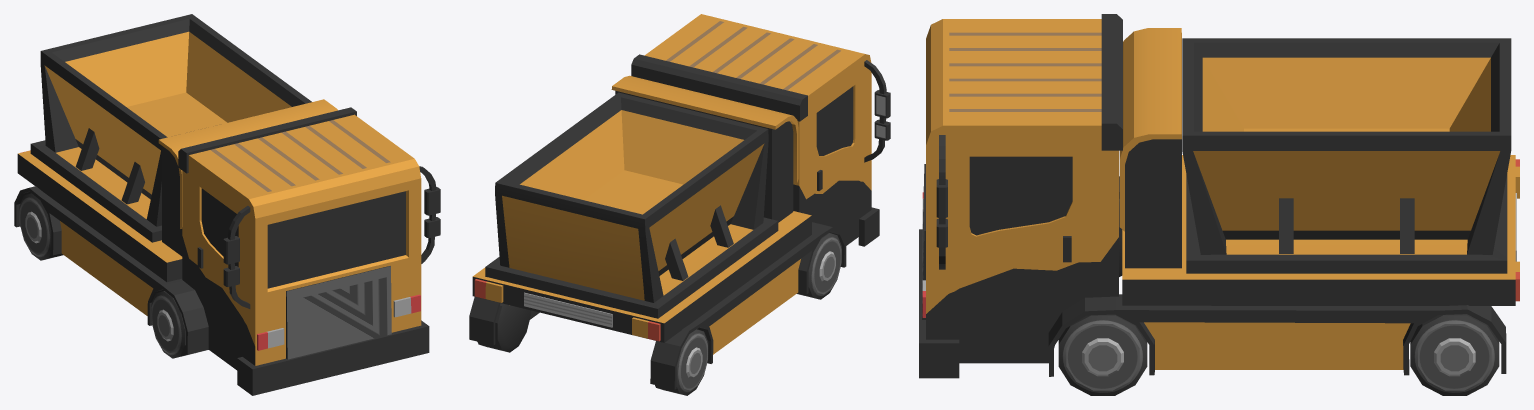
The model's file is truck01_color01.fbx.
3 renders of one model, left to right at view 1: azimuth 30°, elevation 25°; view 2: azimuth 150°, elevation 25°; view 3: azimuth 270°, elevation 25°, orthographic. The views are drawn at different scales.
Visible parts, largest first — view 1: Cube.226, Cylinder.011, Cylinder.009; view 2: Cube.226, Cylinder.011, Cylinder.009, Cylinder.012; view 3: Cube.226, Cylinder.012, Cylinder.013.
Part boxes in pixels (box(x1,y1,x2,y2)): Cube.226: box(14, 14, 440, 395); Cylinder.011: box(151, 291, 195, 358); Cylinder.009: box(19, 193, 63, 260); Cube.226: box(469, 14, 890, 389); Cylinder.011: box(797, 233, 841, 299); Cylinder.009: box(655, 329, 708, 395); Cylinder.012: box(477, 303, 530, 352); Cube.226: box(919, 14, 1519, 378); Cylinder.012: box(1410, 314, 1499, 395); Cylinder.013: box(1058, 314, 1147, 395).
Bounding box in the file's own units: 304 × 269 × 559.
